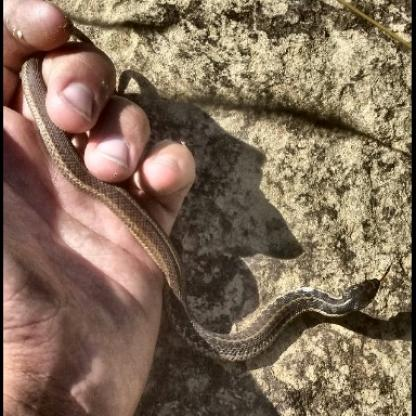Snake: (150, 208, 384, 383), (17, 63, 158, 244)
